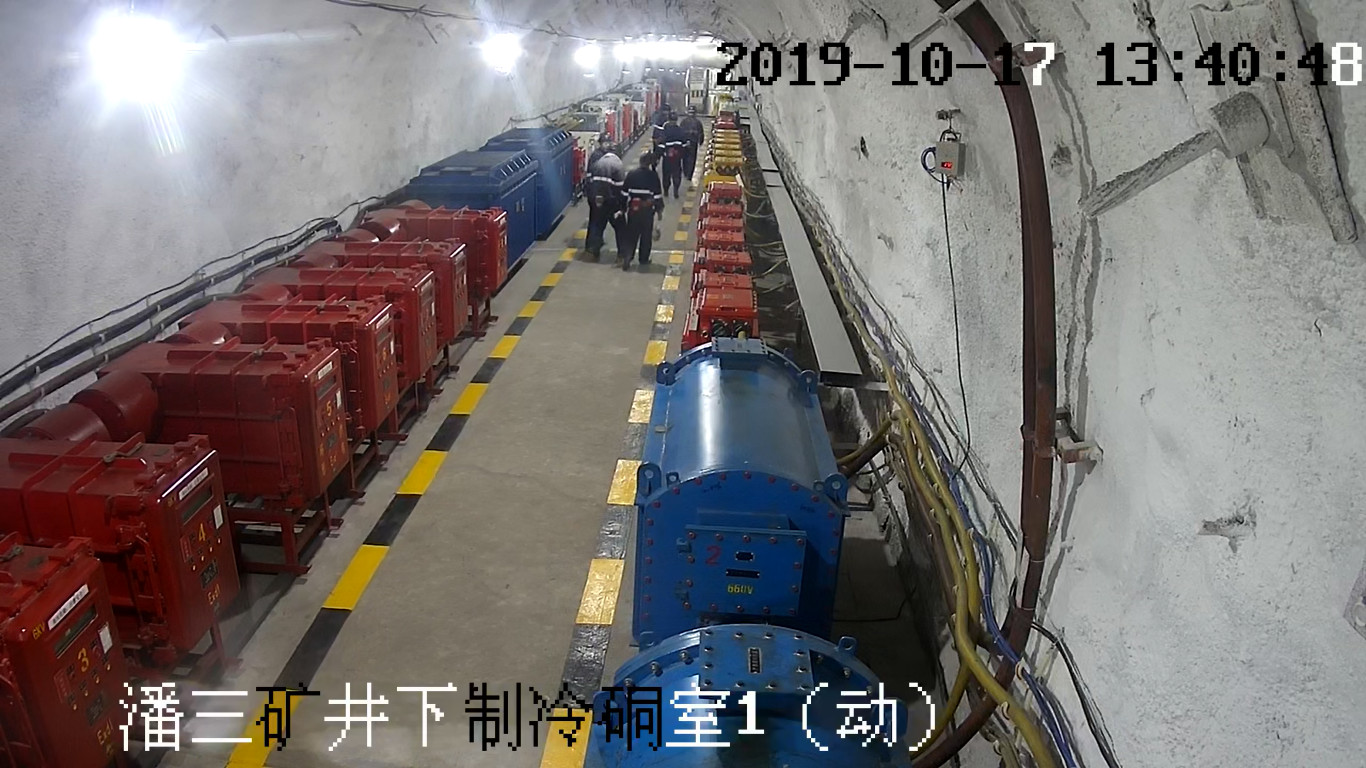helmet: (604, 140, 624, 156), (639, 150, 653, 164), (596, 130, 613, 141), (686, 103, 697, 113), (660, 102, 671, 111), (668, 111, 678, 120)
